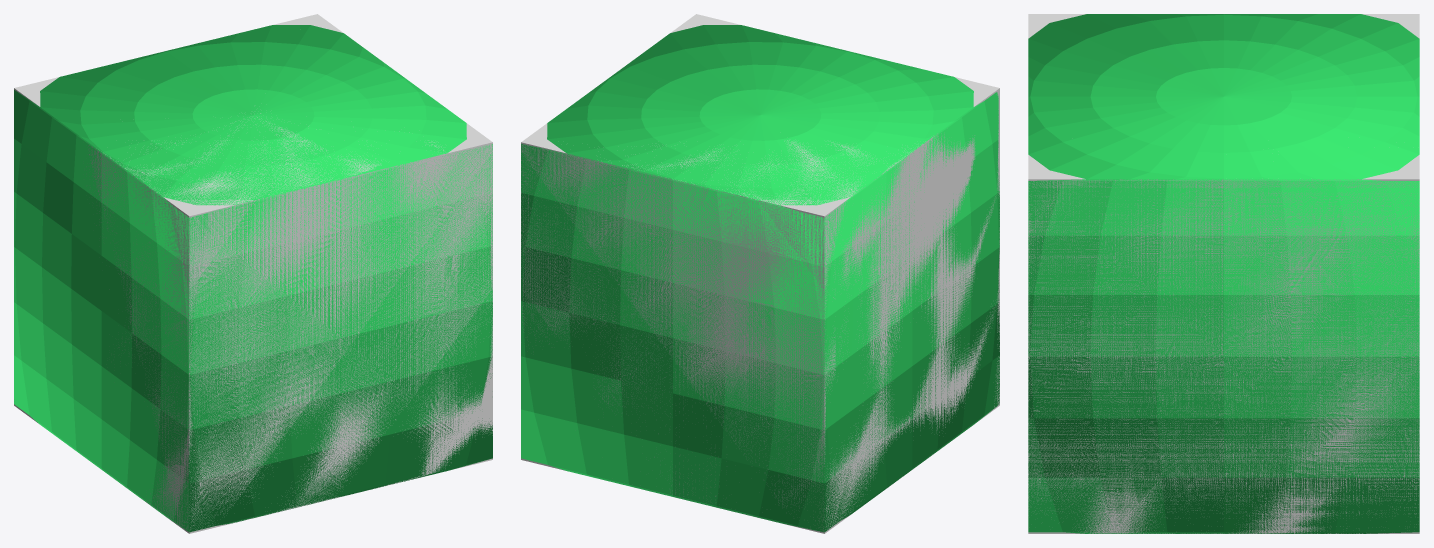
3 views of the same model, side by side, from view 1: azimuth 30°, elevation 25°; view 2: azimuth 150°, elevation 25°; view 3: azimuth 270°, elevation 25° (orthographic). The views are drawn at different scales.
Parts seen in each view (by area): view 1: Sphere, Cube; view 2: Sphere, Cube; view 3: Sphere, Cube.
Boxes of the visible parts, x1,y1,x2,y2 form: Sphere: (14,25,492,532); Cube: (14,14,492,533); Sphere: (521,25,999,532); Cube: (521,14,999,533); Sphere: (1028,14,1419,533); Cube: (1028,14,1419,533).
Size of the model in its own units: 2 by 2 by 2.
